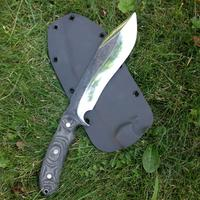knife: (36, 9, 137, 195)
